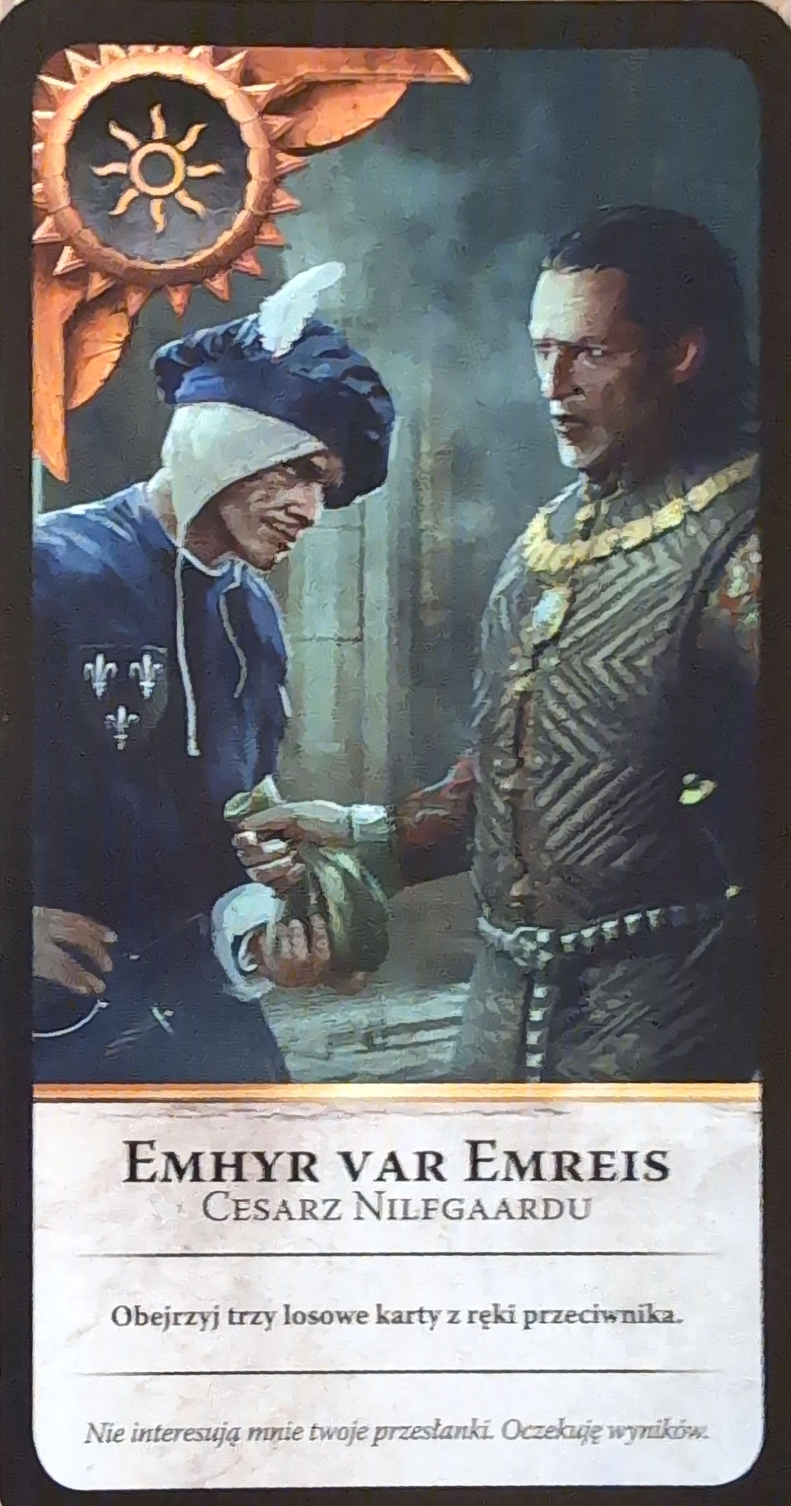emhyr cesarz nilfgaardu: (1, 0, 784, 1505)
